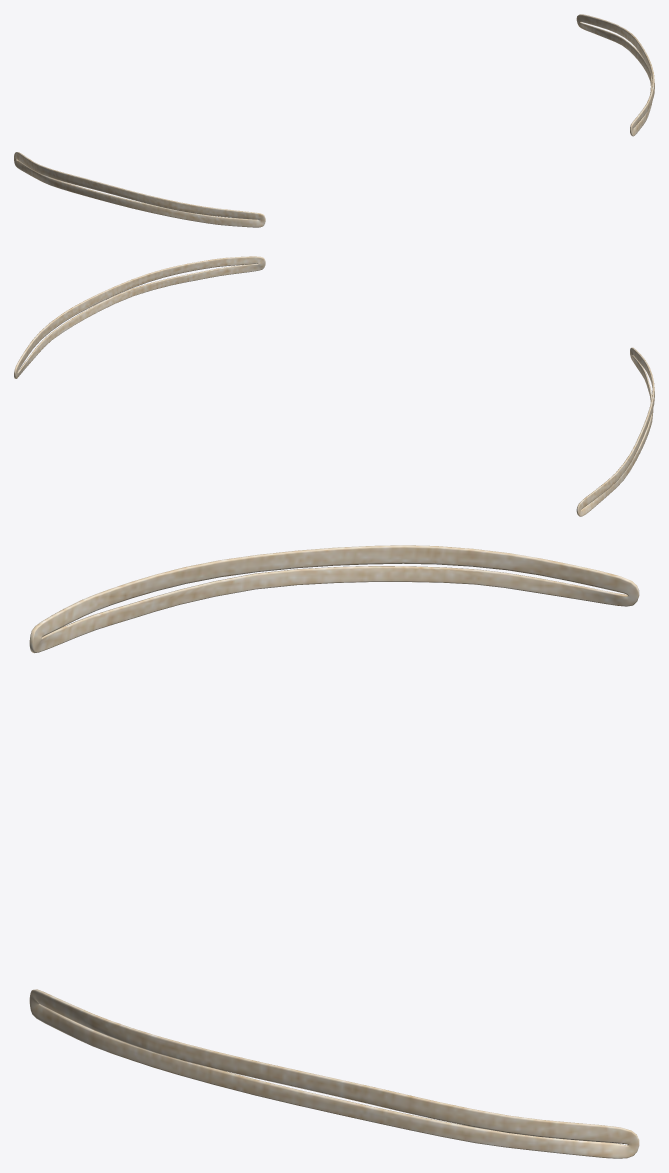
File: Besom_Pocket.glb
The picture shows the model from 3 angles, top to bottom: view 1: azimuth 30°, elevation 25°; view 2: azimuth 150°, elevation 25°; view 3: azimuth 270°, elevation 25°; orthographic projection. The views are drawn at different scales.
Visible parts, largest first — view 1: Besom_Pocket; view 2: Besom_Pocket; view 3: Besom_Pocket.
Part boxes in pixels (x1,y1,x2,y2): Besom_Pocket: [14, 14, 654, 227]; Besom_Pocket: [14, 256, 654, 516]; Besom_Pocket: [29, 545, 639, 1158].
Size of the model in its own units: 0.0447 by 0.00285 by 0.0204.
Materials: 1 (1 with a texture image).
